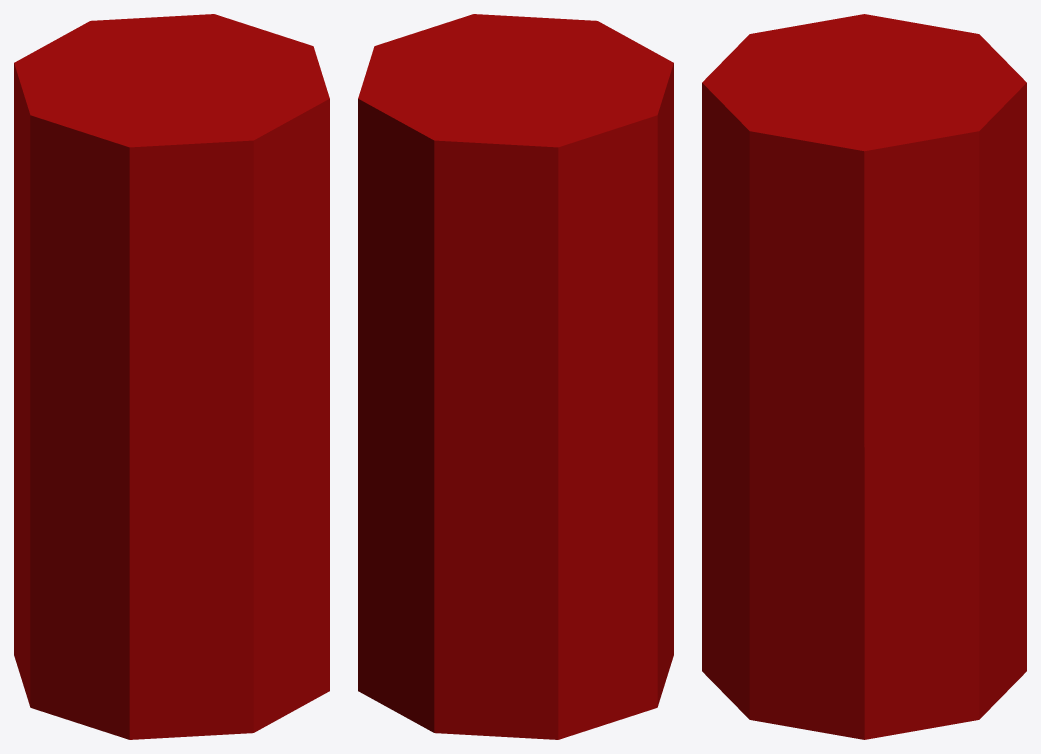
The model's file is silos.glb.
3 views of the same model, side by side, from view 1: azimuth 30°, elevation 25°; view 2: azimuth 150°, elevation 25°; view 3: azimuth 270°, elevation 25° (orthographic).
Parts seen in each view (by area): view 1: Cylinder; view 2: Cylinder; view 3: Cylinder.
Part boxes in pixels (x1=…): Cylinder: x1=14, y1=14, x2=329, y2=739; Cylinder: x1=358, y1=14, x2=673, y2=739; Cylinder: x1=702, y1=14, x2=1026, y2=739.
Size of the model in its own units: 2.5 by 5 by 2.5.
